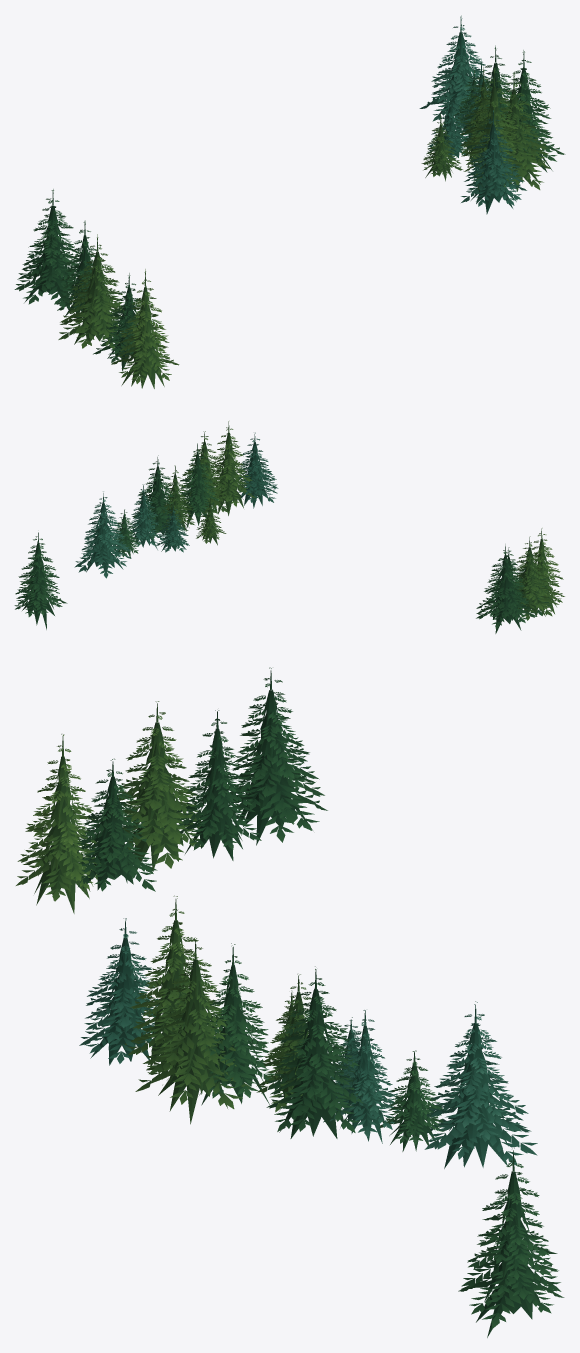
The picture shows the model from 3 angles, top to bottom: view 1: azimuth 30°, elevation 25°; view 2: azimuth 150°, elevation 25°; view 3: azimuth 270°, elevation 25°; orthographic projection. The views are drawn at different scales.
Parts seen in each view (by area): view 1: pn_13; view 2: pn_13; view 3: pn_13.
Part boxes in pixels (x1,y1,x2,y2): pn_13: [14, 15, 565, 388]; pn_13: [14, 421, 564, 633]; pn_13: [16, 667, 564, 1337].
Bounding box in the file's own units: 89.47 × 31.38 × 46.46.
Materials: 1 (1 with a texture image).
